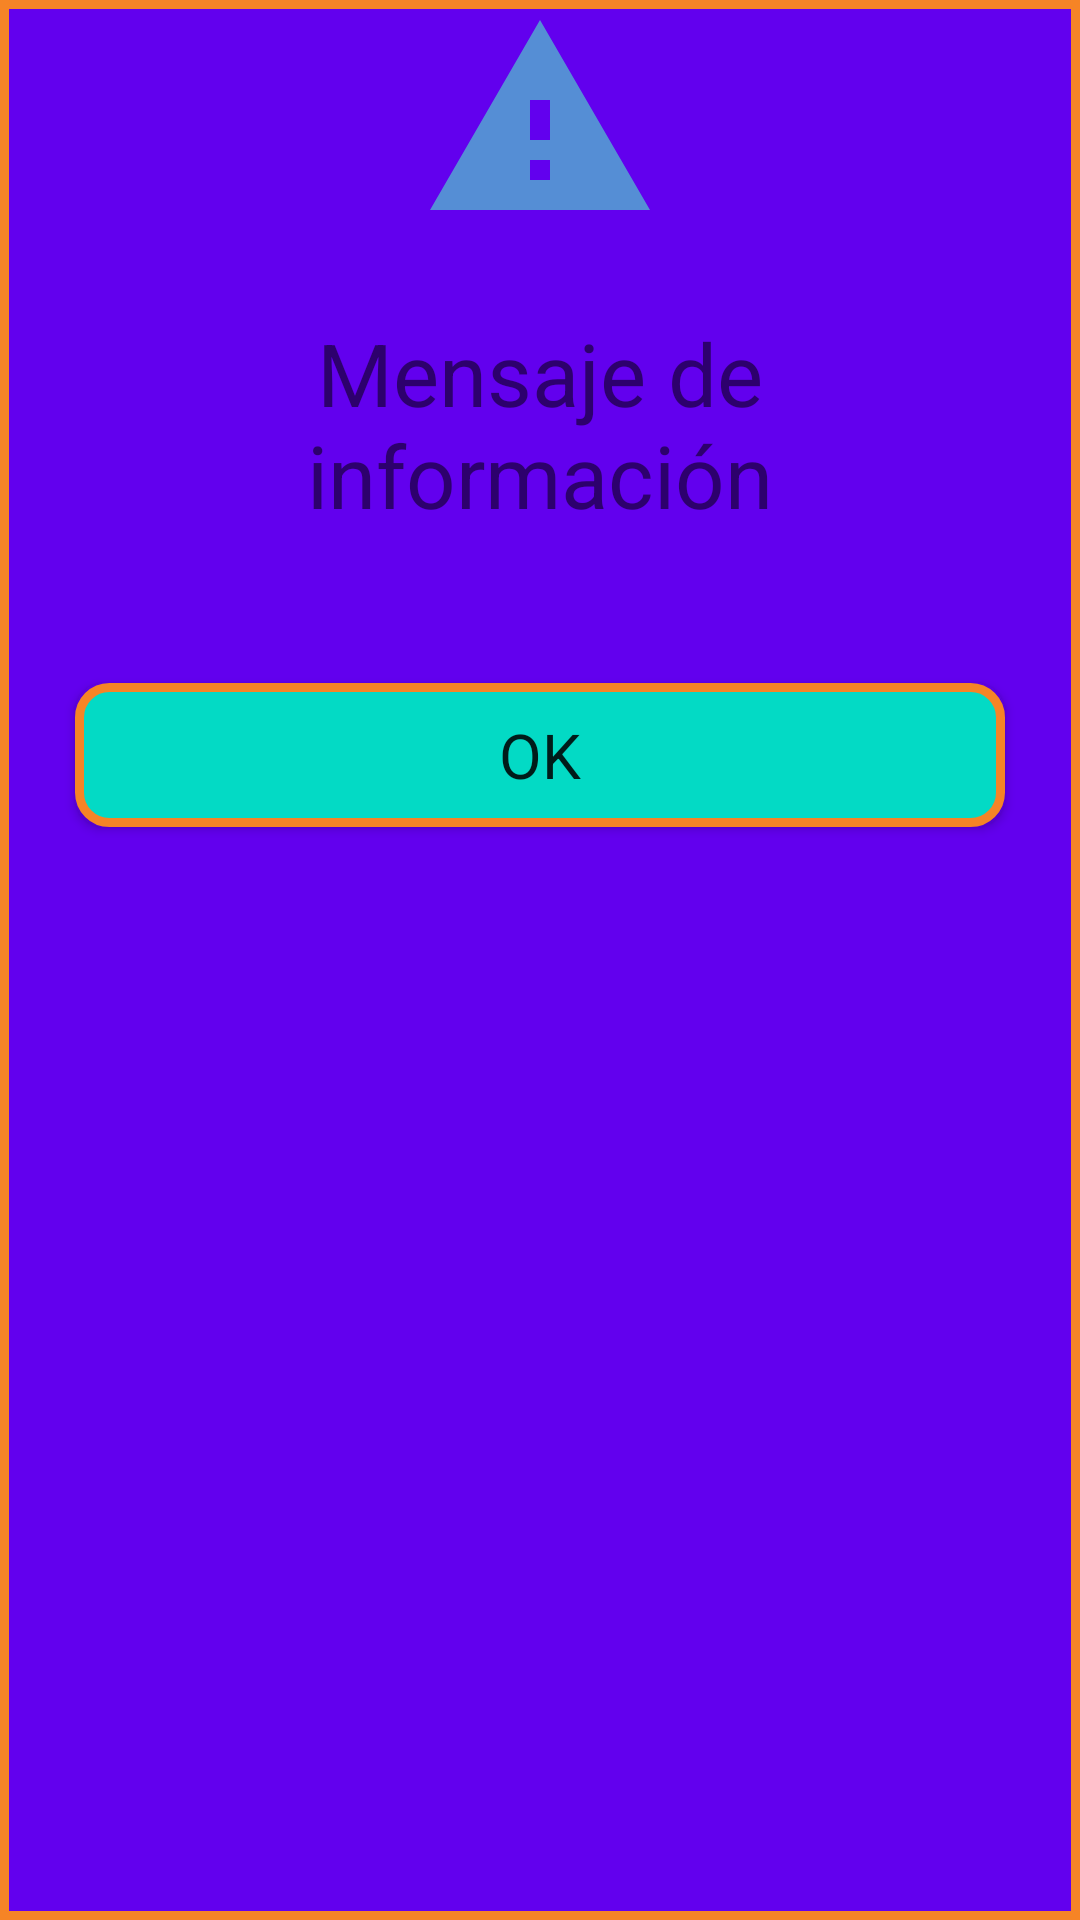

Point at icon controls on the screen. Image size 1080x1920, points as (x,y).
warning: (540,115)
